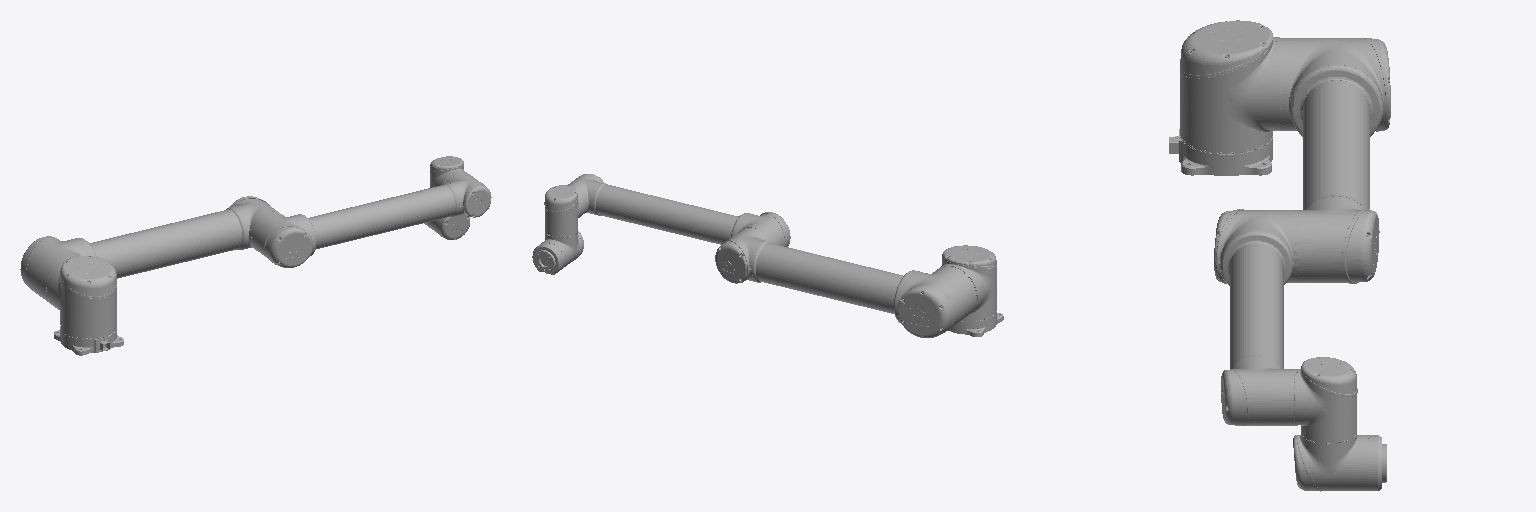
URDF robot description (ur10):
<?xml version="1.0" ?>
<!-- =================================================================================== -->
<!-- |    This document was autogenerated by xacro from [local-path]\Anaconda3\envs\urdf_analyzer\Lib\site-packages\rtbdata\xacro\ur_description\urdf\ur10_joint_limited_robot.urdf.xacro | -->
<!-- |    EDITING THIS FILE BY HAND IS NOT RECOMMENDED                                 | -->
<!-- =================================================================================== -->
<robot name="ur10">
  <gazebo>
    <plugin filename="libgazebo_ros_control.so" name="ros_control">
      <!--robotNamespace>/</robotNamespace-->
      <!--robotSimType>gazebo_ros_control/DefaultRobotHWSim</robotSimType-->
    </plugin>
    <!--
    <plugin name="gazebo_ros_power_monitor_controller" filename="libgazebo_ros_power_monitor.so">
      <alwaysOn>true</alwaysOn>
      <updateRate>1.0</updateRate>
      <timeout>5</timeout>
      <powerStateTopic>power_state</powerStateTopic>
      <powerStateRate>10.0</powerStateRate>
      <fullChargeCapacity>87.78</fullChargeCapacity>     
      <dischargeRate>-474</dischargeRate>
      <chargeRate>525</chargeRate>
      <dischargeVoltage>15.52</dischargeVoltage>
      <chargeVoltage>16.41</chargeVoltage>
    </plugin>
-->
  </gazebo>
  <!--
  Author: [author]
  Contributers: [author], [author], [author]
-->
  <!-- measured from model -->
  <link name="base_link">
    <visual>
      <geometry>
        <mesh filename="package://ur_description/meshes/ur10/visual/base.dae"/>
      </geometry>
      <material name="LightGrey">
        <color rgba="0.7 0.7 0.7 1.0"/>
      </material>
    </visual>
    <collision>
      <geometry>
        <mesh filename="package://ur_description/meshes/ur10/collision/base.stl"/>
      </geometry>
    </collision>
    <inertial>
      <mass value="4.0"/>
      <origin rpy="0 0 0" xyz="0.0 0.0 0.0"/>
      <inertia ixx="0.0061063308908" ixy="0.0" ixz="0.0" iyy="0.0061063308908" iyz="0.0" izz="0.01125"/>
    </inertial>
  </link>
  <joint name="shoulder_pan_joint" type="revolute">
    <parent link="base_link"/>
    <child link="shoulder_link"/>
    <origin rpy="0.0 0.0 0.0" xyz="0.0 0.0 0.1273"/>
    <axis xyz="0 0 1"/>
    <limit effort="330.0" lower="-3.141592653589793" upper="3.141592653589793" velocity="2.16"/>
    <dynamics damping="0.0" friction="0.0"/>
  </joint>
  <link name="shoulder_link">
    <visual>
      <geometry>
        <mesh filename="package://ur_description/meshes/ur10/visual/shoulder.dae"/>
      </geometry>
      <material name="LightGrey">
        <color rgba="0.7 0.7 0.7 1.0"/>
      </material>
    </visual>
    <collision>
      <geometry>
        <mesh filename="package://ur_description/meshes/ur10/collision/shoulder.stl"/>
      </geometry>
    </collision>
    <inertial>
      <mass value="7.778"/>
      <origin rpy="0 0 0" xyz="0.0 0.0 0.0"/>
      <inertia ixx="0.03147431257693659" ixy="0.0" ixz="0.0" iyy="0.03147431257693659" iyz="0.0" izz="0.021875624999999996"/>
    </inertial>
  </link>
  <joint name="shoulder_lift_joint" type="revolute">
    <parent link="shoulder_link"/>
    <child link="upper_arm_link"/>
    <origin rpy="0.0 1.5707963267948966 0.0" xyz="0.0 0.220941 0.0"/>
    <axis xyz="0 1 0"/>
    <limit effort="330.0" lower="-3.141592653589793" upper="3.141592653589793" velocity="2.16"/>
    <dynamics damping="0.0" friction="0.0"/>
  </joint>
  <link name="upper_arm_link">
    <visual>
      <geometry>
        <mesh filename="package://ur_description/meshes/ur10/visual/upperarm.dae"/>
      </geometry>
      <material name="LightGrey">
        <color rgba="0.7 0.7 0.7 1.0"/>
      </material>
    </visual>
    <collision>
      <geometry>
        <mesh filename="package://ur_description/meshes/ur10/collision/upperarm.stl"/>
      </geometry>
    </collision>
    <inertial>
      <mass value="12.93"/>
      <origin rpy="0 0 0" xyz="0.0 -0.045 0.306"/>
      <inertia ixx="0.42175380379841093" ixy="0.0" ixz="0.0" iyy="0.42175380379841093" iyz="0.0" izz="0.03636562499999999"/>
    </inertial>
  </link>
  <joint name="elbow_joint" type="revolute">
    <parent link="upper_arm_link"/>
    <child link="forearm_link"/>
    <origin rpy="0.0 0.0 0.0" xyz="0.0 -0.1719 0.612"/>
    <axis xyz="0 1 0"/>
    <limit effort="150.0" lower="-3.141592653589793" upper="3.141592653589793" velocity="3.15"/>
    <dynamics damping="0.0" friction="0.0"/>
  </joint>
  <link name="forearm_link">
    <visual>
      <geometry>
        <mesh filename="package://ur_description/meshes/ur10/visual/forearm.dae"/>
      </geometry>
      <material name="LightGrey">
        <color rgba="0.7 0.7 0.7 1.0"/>
      </material>
    </visual>
    <collision>
      <geometry>
        <mesh filename="package://ur_description/meshes/ur10/collision/forearm.stl"/>
      </geometry>
    </collision>
    <inertial>
      <mass value="3.87"/>
      <origin rpy="0 0 0" xyz="0.0 0.0 0.28615"/>
      <inertia ixx="0.11106969409710458" ixy="0.0" ixz="0.0" iyy="0.11106969409710458" iyz="0.0" izz="0.010884375"/>
    </inertial>
  </link>
  <joint name="wrist_1_joint" type="revolute">
    <parent link="forearm_link"/>
    <child link="wrist_1_link"/>
    <origin rpy="0.0 1.5707963267948966 0.0" xyz="0.0 0.0 0.5723"/>
    <axis xyz="0 1 0"/>
    <limit effort="54.0" lower="-3.141592653589793" upper="3.141592653589793" velocity="3.2"/>
    <dynamics damping="0.0" friction="0.0"/>
  </joint>
  <link name="wrist_1_link">
    <visual>
      <geometry>
        <mesh filename="package://ur_description/meshes/ur10/visual/wrist1.dae"/>
      </geometry>
      <material name="LightGrey">
        <color rgba="0.7 0.7 0.7 1.0"/>
      </material>
    </visual>
    <collision>
      <geometry>
        <mesh filename="package://ur_description/meshes/ur10/collision/wrist1.stl"/>
      </geometry>
    </collision>
    <inertial>
      <mass value="1.96"/>
      <origin rpy="0 0 0" xyz="0.0 0.1149 0.0"/>
      <inertia ixx="0.005108247956699999" ixy="0.0" ixz="0.0" iyy="0.005108247956699999" iyz="0.0" izz="0.005512499999999999"/>
    </inertial>
  </link>
  <joint name="wrist_2_joint" type="revolute">
    <parent link="wrist_1_link"/>
    <child link="wrist_2_link"/>
    <origin rpy="0.0 0.0 0.0" xyz="0.0 0.1149 0.0"/>
    <axis xyz="0 0 1"/>
    <limit effort="54.0" lower="-3.141592653589793" upper="3.141592653589793" velocity="3.2"/>
    <dynamics damping="0.0" friction="0.0"/>
  </joint>
  <link name="wrist_2_link">
    <visual>
      <geometry>
        <mesh filename="package://ur_description/meshes/ur10/visual/wrist2.dae"/>
      </geometry>
      <material name="LightGrey">
        <color rgba="0.7 0.7 0.7 1.0"/>
      </material>
    </visual>
    <collision>
      <geometry>
        <mesh filename="package://ur_description/meshes/ur10/collision/wrist2.stl"/>
      </geometry>
    </collision>
    <inertial>
      <mass value="1.96"/>
      <origin rpy="0 0 0" xyz="0.0 0.0 0.1157"/>
      <inertia ixx="0.005108247956699999" ixy="0.0" ixz="0.0" iyy="0.005108247956699999" iyz="0.0" izz="0.005512499999999999"/>
    </inertial>
  </link>
  <joint name="wrist_3_joint" type="revolute">
    <parent link="wrist_2_link"/>
    <child link="wrist_3_link"/>
    <origin rpy="0.0 0.0 0.0" xyz="0.0 0.0 0.1157"/>
    <axis xyz="0 1 0"/>
    <limit effort="54.0" lower="-3.141592653589793" upper="3.141592653589793" velocity="3.2"/>
    <dynamics damping="0.0" friction="0.0"/>
  </joint>
  <link name="wrist_3_link">
    <visual>
      <geometry>
        <mesh filename="package://ur_description/meshes/ur10/visual/wrist3.dae"/>
      </geometry>
      <material name="LightGrey">
        <color rgba="0.7 0.7 0.7 1.0"/>
      </material>
    </visual>
    <collision>
      <geometry>
        <mesh filename="package://ur_description/meshes/ur10/collision/wrist3.stl"/>
      </geometry>
    </collision>
    <inertial>
      <mass value="0.202"/>
      <origin rpy="1.5707963267948966 0 0" xyz="0.0 0.07695 0.0"/>
      <inertia ixx="0.00011792166116465" ixy="0.0" ixz="0.0" iyy="0.00011792166116465" iyz="0.0" izz="0.00020452500000000002"/>
    </inertial>
  </link>
  <joint name="ee_fixed_joint" type="fixed">
    <parent link="wrist_3_link"/>
    <child link="ee_link"/>
    <origin rpy="0.0 0.0 1.5707963267948966" xyz="0.0 0.0922 0.0"/>
  </joint>
  <link name="ee_link">
    <collision>
      <geometry>
        <box size="0.01 0.01 0.01"/>
      </geometry>
      <origin rpy="0 0 0" xyz="-0.01 0 0"/>
    </collision>
  </link>
  <transmission name="shoulder_pan_trans">
    <type>transmission_interface/SimpleTransmission</type>
    <joint name="shoulder_pan_joint">
      <hardwareInterface>hardware_interface/PositionJointInterface</hardwareInterface>
    </joint>
    <actuator name="shoulder_pan_motor">
      <mechanicalReduction>1</mechanicalReduction>
    </actuator>
  </transmission>
  <transmission name="shoulder_lift_trans">
    <type>transmission_interface/SimpleTransmission</type>
    <joint name="shoulder_lift_joint">
      <hardwareInterface>hardware_interface/PositionJointInterface</hardwareInterface>
    </joint>
    <actuator name="shoulder_lift_motor">
      <mechanicalReduction>1</mechanicalReduction>
    </actuator>
  </transmission>
  <transmission name="elbow_trans">
    <type>transmission_interface/SimpleTransmission</type>
    <joint name="elbow_joint">
      <hardwareInterface>hardware_interface/PositionJointInterface</hardwareInterface>
    </joint>
    <actuator name="elbow_motor">
      <mechanicalReduction>1</mechanicalReduction>
    </actuator>
  </transmission>
  <transmission name="wrist_1_trans">
    <type>transmission_interface/SimpleTransmission</type>
    <joint name="wrist_1_joint">
      <hardwareInterface>hardware_interface/PositionJointInterface</hardwareInterface>
    </joint>
    <actuator name="wrist_1_motor">
      <mechanicalReduction>1</mechanicalReduction>
    </actuator>
  </transmission>
  <transmission name="wrist_2_trans">
    <type>transmission_interface/SimpleTransmission</type>
    <joint name="wrist_2_joint">
      <hardwareInterface>hardware_interface/PositionJointInterface</hardwareInterface>
    </joint>
    <actuator name="wrist_2_motor">
      <mechanicalReduction>1</mechanicalReduction>
    </actuator>
  </transmission>
  <transmission name="wrist_3_trans">
    <type>transmission_interface/SimpleTransmission</type>
    <joint name="wrist_3_joint">
      <hardwareInterface>hardware_interface/PositionJointInterface</hardwareInterface>
    </joint>
    <actuator name="wrist_3_motor">
      <mechanicalReduction>1</mechanicalReduction>
    </actuator>
  </transmission>
  <gazebo reference="shoulder_link">
    <selfCollide>true</selfCollide>
  </gazebo>
  <gazebo reference="upper_arm_link">
    <selfCollide>true</selfCollide>
  </gazebo>
  <gazebo reference="forearm_link">
    <selfCollide>true</selfCollide>
  </gazebo>
  <gazebo reference="wrist_1_link">
    <selfCollide>true</selfCollide>
  </gazebo>
  <gazebo reference="wrist_3_link">
    <selfCollide>true</selfCollide>
  </gazebo>
  <gazebo reference="wrist_2_link">
    <selfCollide>true</selfCollide>
  </gazebo>
  <gazebo reference="ee_link">
    <selfCollide>true</selfCollide>
  </gazebo>
  <!-- ROS base_link to UR 'Base' Coordinates transform -->
  <link name="base"/>
  <joint name="base_link-base_fixed_joint" type="fixed">
    <!-- NOTE: this rotation is only needed as long as base_link itself is
                 not corrected wrt the real robot (ie: rotated over 180
                 degrees)
      -->
    <origin rpy="0 0 -3.141592653589793" xyz="0 0 0"/>
    <parent link="base_link"/>
    <child link="base"/>
  </joint>
  <!-- Frame coincident with all-zeros TCP on UR controller -->
  <link name="tool0"/>
  <joint name="wrist_3_link-tool0_fixed_joint" type="fixed">
    <origin rpy="-1.5707963267948966 0 0" xyz="0 0.0922 0"/>
    <parent link="wrist_3_link"/>
    <child link="tool0"/>
  </joint>
  <link name="world"/>
  <joint name="world_joint" type="fixed">
    <parent link="world"/>
    <child link="base_link"/>
    <origin rpy="0.0 0.0 0.0" xyz="0.0 0.0 0.0"/>
  </joint>
</robot>

--- Render facts (derived) ---
Views: 3 orthographic renders of the robot side by side, from view 1: azimuth 30°, elevation 25°; view 2: azimuth 150°, elevation 25°; view 3: azimuth 270°, elevation 25°.
Robot: ur10 — 11 links, 10 joints (6 revolute, 4 fixed); root link world; default pose: every joint at zero.
Links seen in each view (by area): view 1: upper_arm_link, forearm_link, shoulder_link, base_link, wrist_2_link, wrist_1_link; view 2: upper_arm_link, forearm_link, shoulder_link, wrist_1_link, wrist_3_link, wrist_2_link, base_link; view 3: upper_arm_link, forearm_link, shoulder_link, wrist_1_link, wrist_2_link, base_link, wrist_3_link.
Link boxes in pixels (left/top/right/bottom): upper_arm_link: left=20, top=196, right=278, bottom=304; forearm_link: left=249, top=171, right=491, bottom=267; shoulder_link: left=48, top=256, right=116, bottom=339; base_link: left=54, top=328, right=123, bottom=355; wrist_2_link: left=424, top=214, right=469, bottom=239; wrist_1_link: left=430, top=156, right=463, bottom=187; upper_arm_link: left=715, top=229, right=976, bottom=337; forearm_link: left=567, top=174, right=790, bottom=246; shoulder_link: left=940, top=245, right=996, bottom=321; wrist_1_link: left=544, top=185, right=585, bottom=237; wrist_3_link: left=532, top=242, right=563, bottom=274; wrist_2_link: left=542, top=231, right=583, bottom=269; base_link: left=948, top=313, right=1003, bottom=336; upper_arm_link: left=1280, top=38, right=1390, bottom=283; forearm_link: left=1214, top=209, right=1298, bottom=425; shoulder_link: left=1180, top=20, right=1279, bottom=154; wrist_1_link: left=1295, top=357, right=1357, bottom=443; wrist_2_link: left=1293, top=435, right=1366, bottom=491; base_link: left=1169, top=129, right=1272, bottom=175; wrist_3_link: left=1367, top=435, right=1386, bottom=490.
Size in the robot's own frame: 1.31 by 0.3552 by 0.2501 metres.
Meshes: 7 distinct files referenced, 7 mesh visuals loaded (7 Collada DAE).